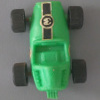verde: (14, 1, 84, 98)
